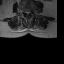CCS_stenosis: (27, 9, 28, 18)
LFS_severe_stenosis: (30, 9, 32, 14)
LLS_stenosis: (28, 9, 30, 16)
RFS_stenosis: (23, 9, 25, 15)
RLS_stenosis: (25, 9, 27, 15)
